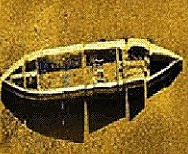ship: (1, 37, 184, 101)
